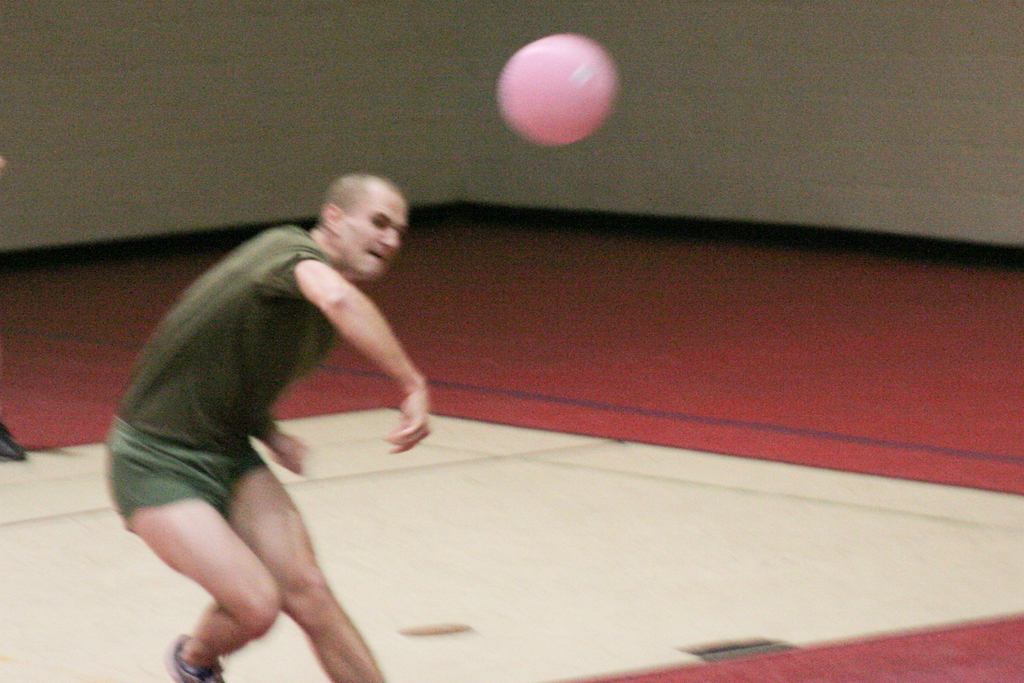Ball: (495, 32, 614, 143)
